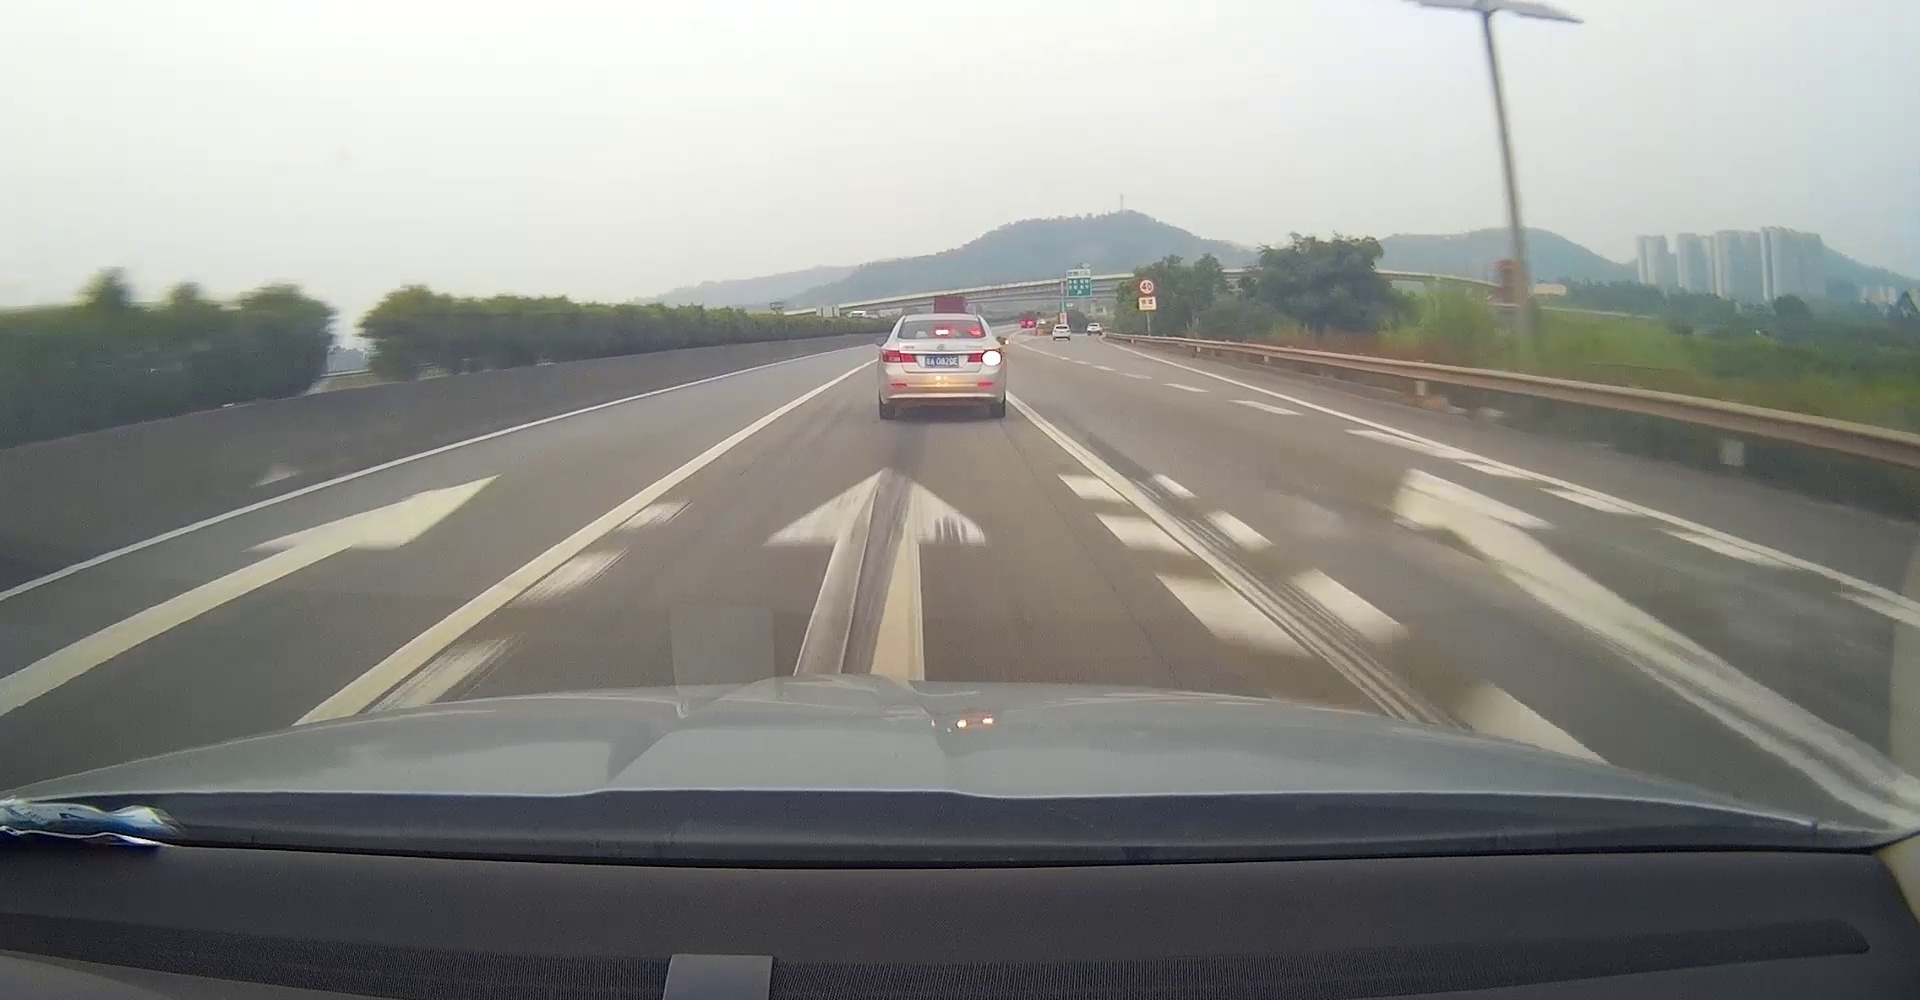L_light: (877, 348, 917, 362)
R_light: (968, 349, 1001, 362)
T_light: (935, 330, 949, 335)
day-brake: (877, 313, 1006, 419)
